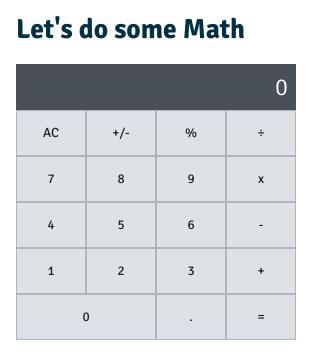
Test: <Calculator /> component › Display box displays 8 value after press the button 8
Click the button with test id "calcBtn" showing "8" at x=121, y=179, box [86,156,156,202]
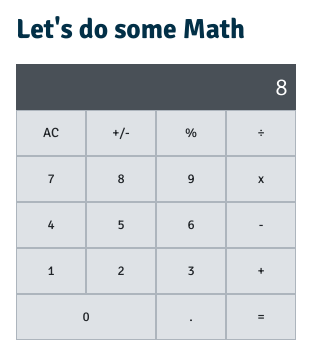
Expected: the text with test id "calc__display-box" reads "8", [275,72,288,102]
